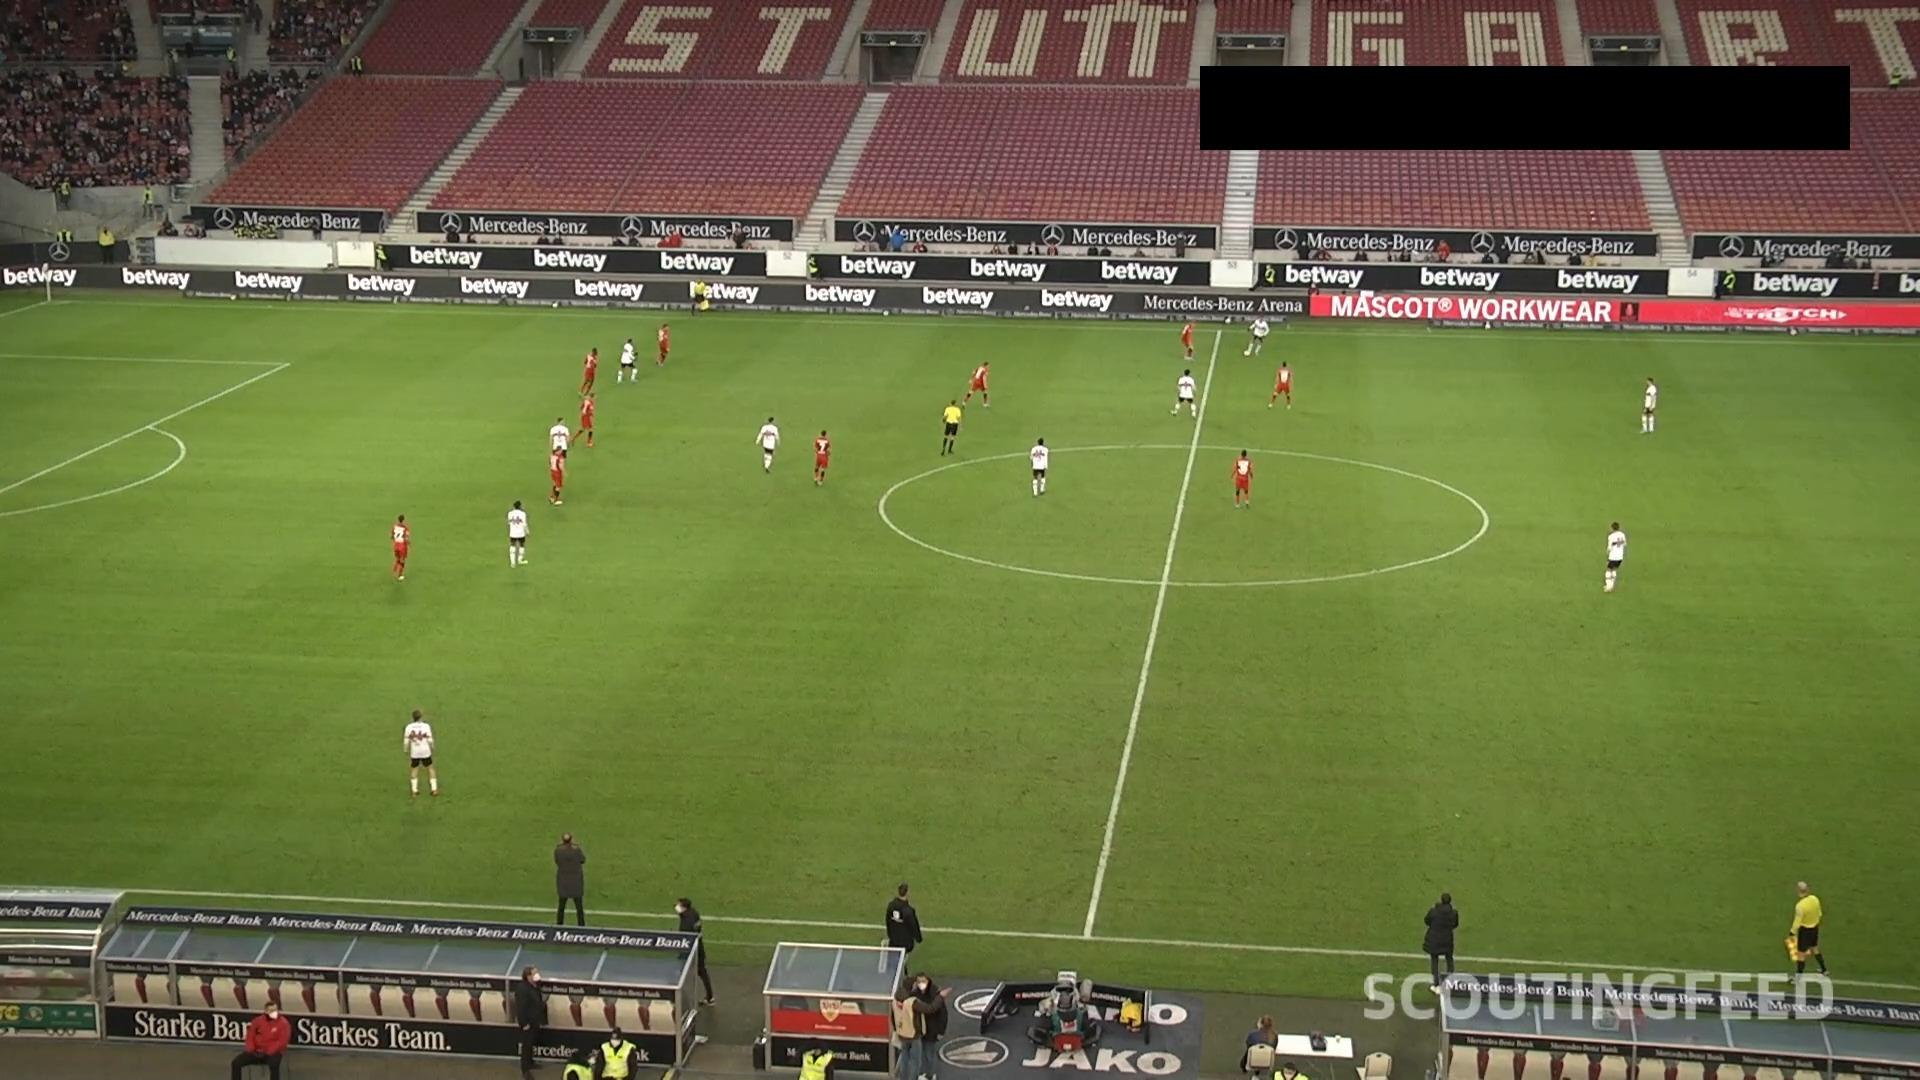ball: (1242, 349, 1251, 359)
